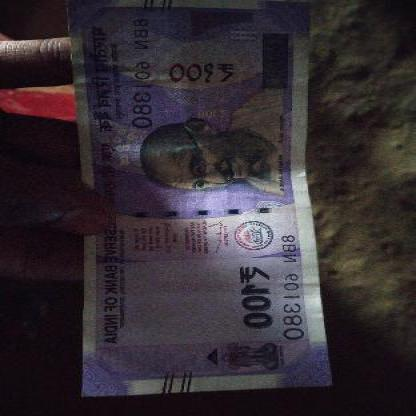New100Front: (78, 1, 314, 396)
